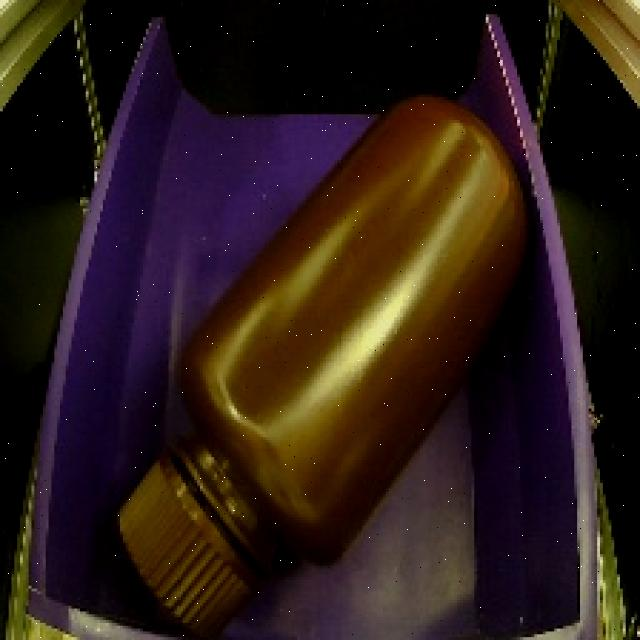plastic: (82, 71, 550, 640)
